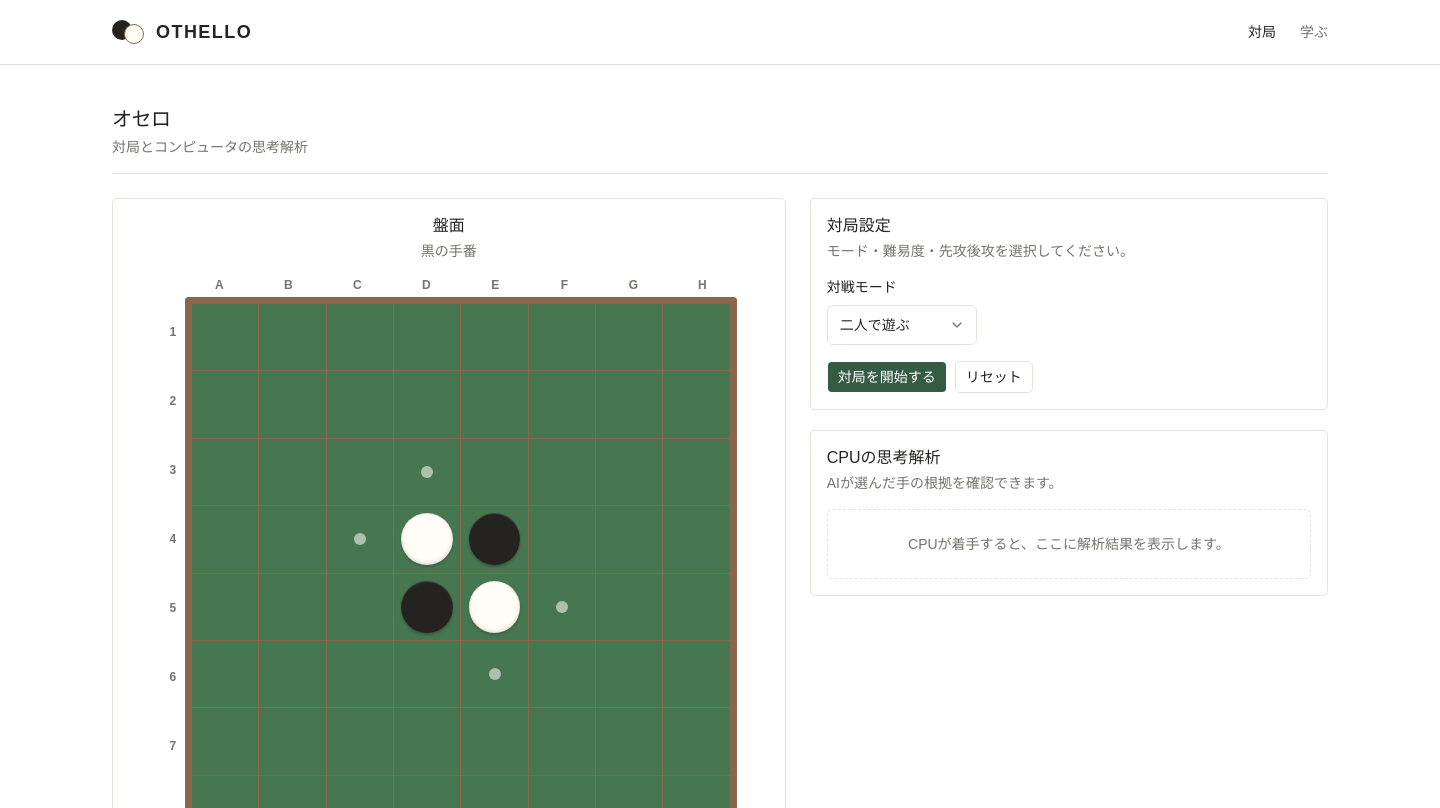
Test: App › 対局開始後は設定と開始ボタンを操作できない
Click the button "対局を開始する" at (887, 377), box [827,361,947,393]
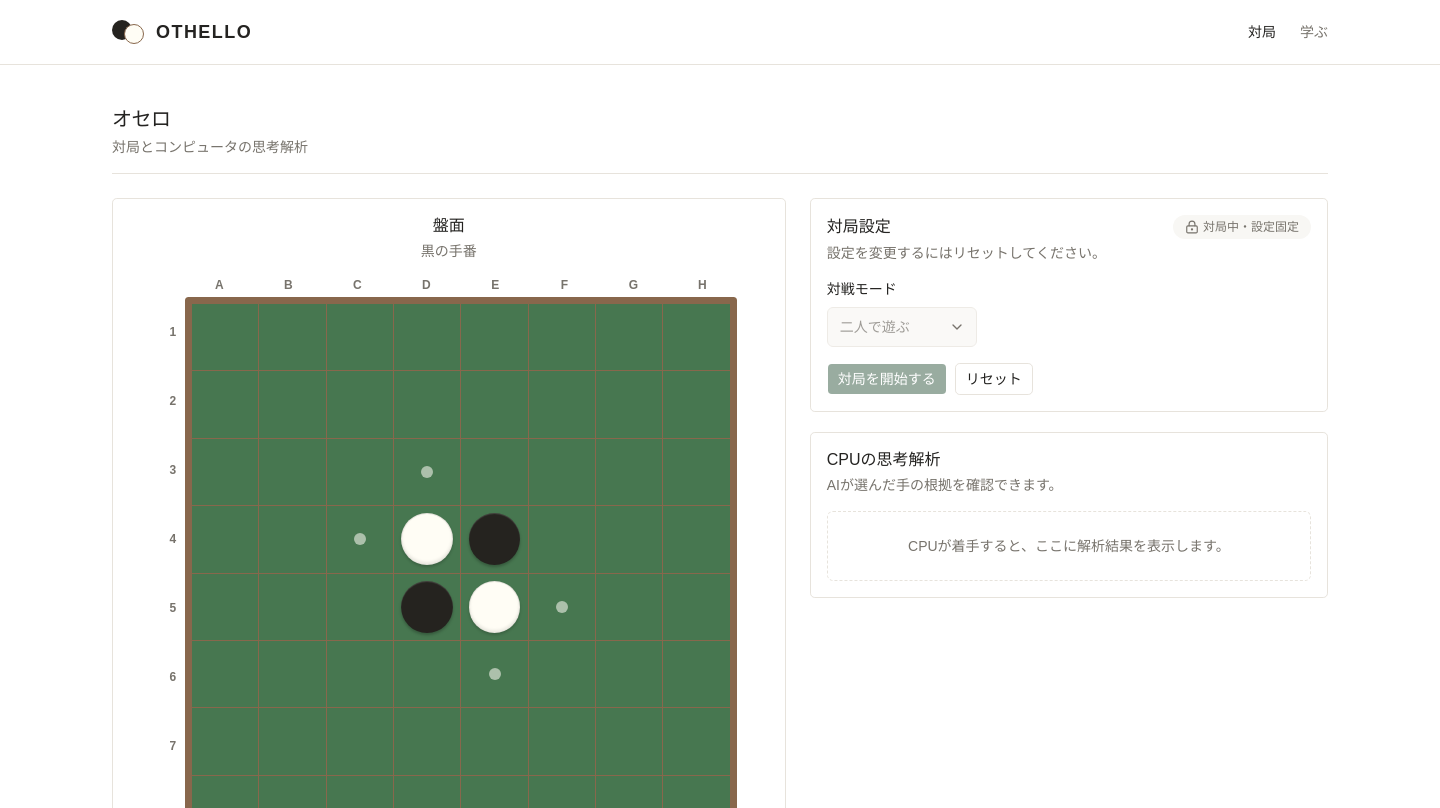
expect the dropdown labelled "対戦モード" is disabled: met, box [827,307,978,347]
expect the button "対局を開始する" is disabled: met, box [827,363,947,395]
expect the text "対局中・設定固定" is shown: met, box [1173,215,1311,239]
